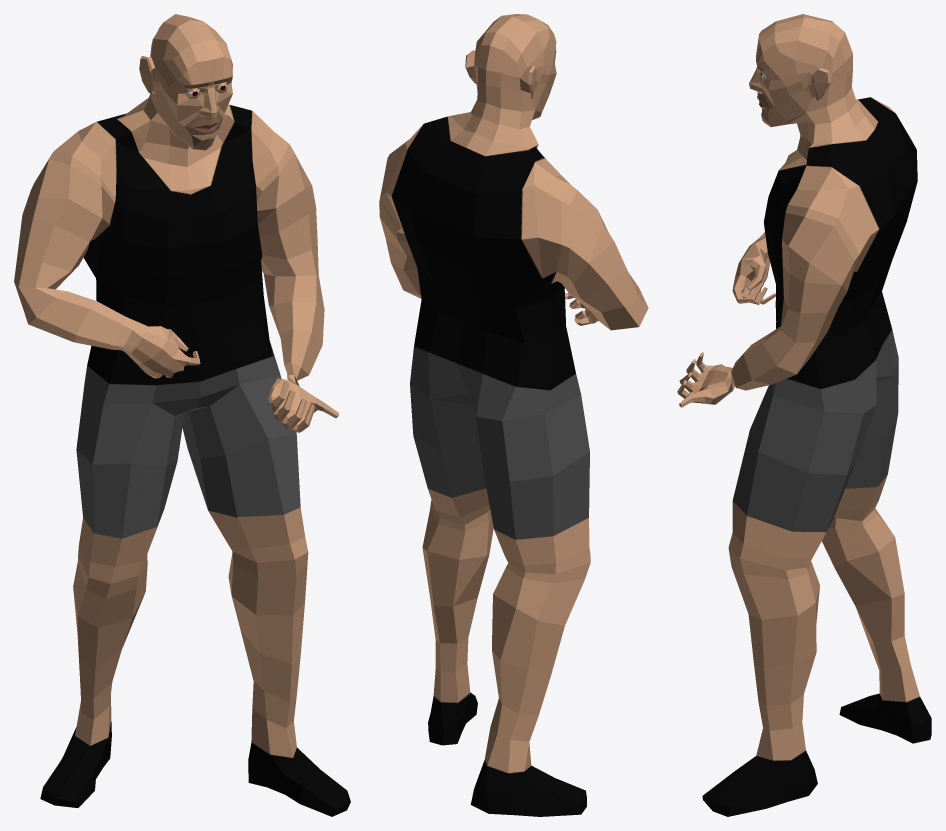
Rendered from PlayerIdle(52).obj.
3 renders of one model, left to right at view 1: azimuth 30°, elevation 25°; view 2: azimuth 150°, elevation 25°; view 3: azimuth 270°, elevation 25°, orthographic. The views are drawn at different scales.
Parts seen in each view (by area): view 1: Plane002; view 2: Plane002; view 3: Plane002.
Part boxes in pixels (x1=…): Plane002: x1=14, y1=14, x2=350, y2=816; Plane002: x1=379, y1=14, x2=648, y2=816; Plane002: x1=677, y1=14, x2=931, y2=816.
Bounding box in the file's own units: 672 × 1802 × 559.
